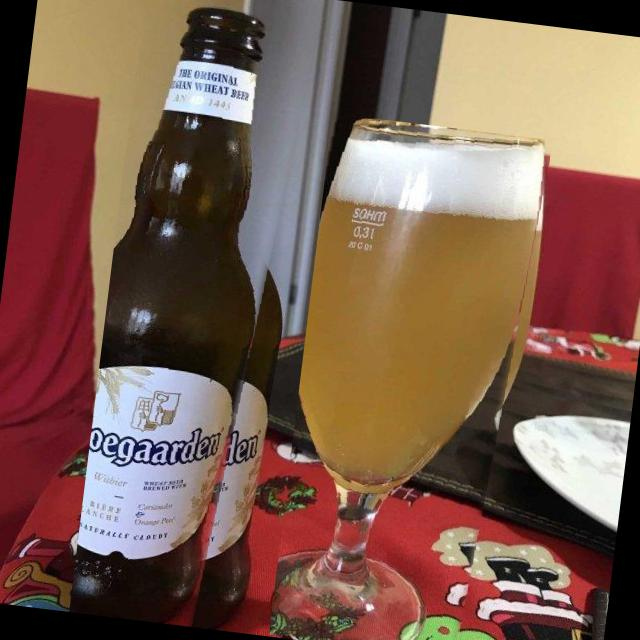Glass: (68, 0, 320, 633), (268, 113, 554, 640)
